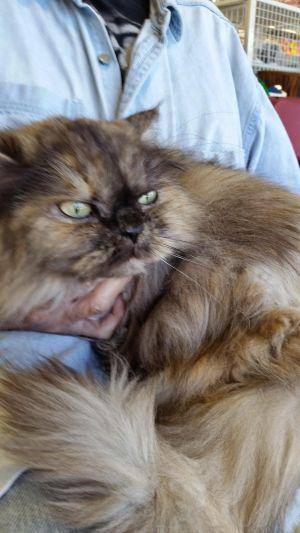persian: (1, 91, 189, 301)
